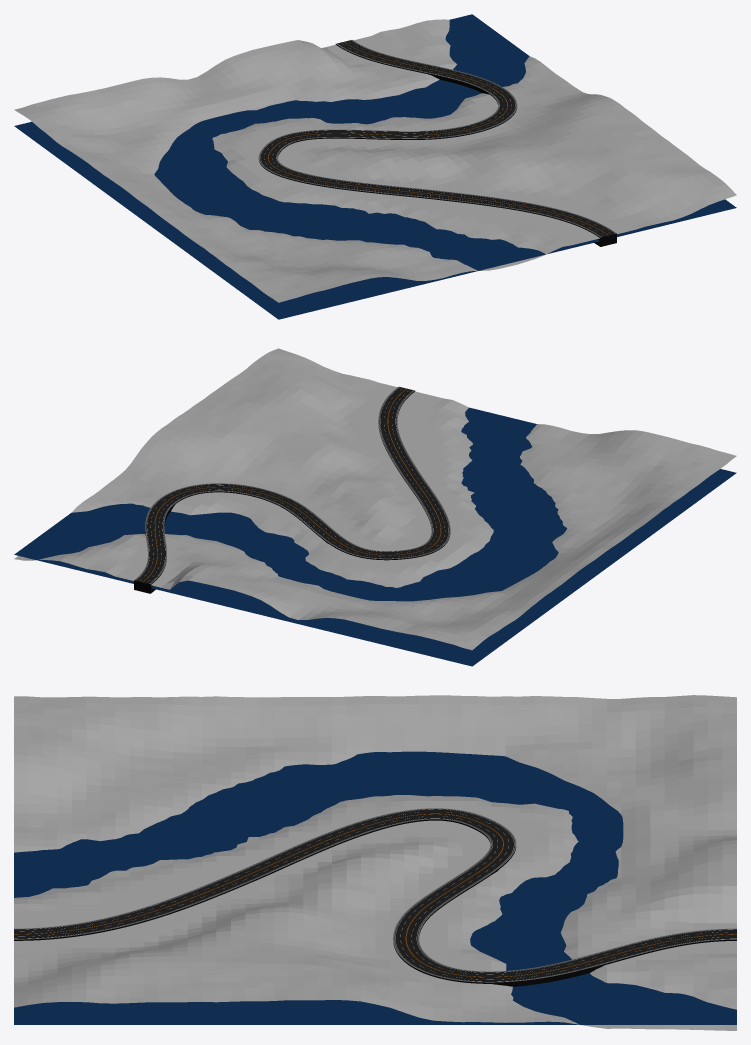
Rendered from terr.obj.
3 views of the same model, one above another, from view 1: azimuth 30°, elevation 25°; view 2: azimuth 150°, elevation 25°; view 3: azimuth 270°, elevation 25° (orthographic). The views are drawn at different scales.
Visible parts, largest first — view 1: Plane.002_Plane.003_ground.001, Plane.003_Plane.004_water.001, 2x2_long_0m.001_Plane.001_road_asphalt.001, 2x2_long_0m.001_Plane.001_ground_default.001, 2x2_long_0m.001_Plane.001_wall_retaining.001, 2x2_long_0m.001_Plane.001_road_white.001; view 2: Plane.002_Plane.003_ground.001, Plane.003_Plane.004_water.001, 2x2_long_0m.001_Plane.001_road_asphalt.001, 2x2_long_0m.001_Plane.001_ground_default.001, 2x2_long_0m.001_Plane.001_wall_retaining.001, 2x2_long_0m.001_Plane.001_road_white.001; view 3: Plane.002_Plane.003_ground.001, Plane.003_Plane.004_water.001, 2x2_long_0m.001_Plane.001_road_asphalt.001, 2x2_long_0m.001_Plane.001_ground_default.001, 2x2_long_0m.001_Plane.001_wall_retaining.001, 2x2_long_0m.001_Plane.001_road_white.001, 2x2_long_0m.001_Plane.001_road_yellow.001.
Part boxes in pixels (x1,y1,x2,y2): Plane.002_Plane.003_ground.001: (14,19,736,302); Plane.003_Plane.004_water.001: (14,14,736,319); 2x2_long_0m.001_Plane.001_road_asphalt.001: (259,40,615,236); 2x2_long_0m.001_Plane.001_ground_default.001: (258,40,616,237); 2x2_long_0m.001_Plane.001_wall_retaining.001: (258,44,616,246); 2x2_long_0m.001_Plane.001_road_white.001: (260,41,614,236); Plane.002_Plane.003_ground.001: (14,348,736,650); Plane.003_Plane.004_water.001: (14,407,736,666); 2x2_long_0m.001_Plane.001_road_asphalt.001: (135,387,449,583); 2x2_long_0m.001_Plane.001_ground_default.001: (134,386,450,583); 2x2_long_0m.001_Plane.001_wall_retaining.001: (134,391,450,593); 2x2_long_0m.001_Plane.001_road_white.001: (137,387,448,580); Plane.002_Plane.003_ground.001: (14,695,736,1030); Plane.003_Plane.004_water.001: (14,751,736,1024); 2x2_long_0m.001_Plane.001_road_asphalt.001: (14,809,736,981); 2x2_long_0m.001_Plane.001_ground_default.001: (14,808,736,982); 2x2_long_0m.001_Plane.001_wall_retaining.001: (14,819,736,986); 2x2_long_0m.001_Plane.001_road_white.001: (14,809,736,981); 2x2_long_0m.001_Plane.001_road_yellow.001: (14,813,736,977).
Size of the model in its own units: 500 by 26.42 by 500.
